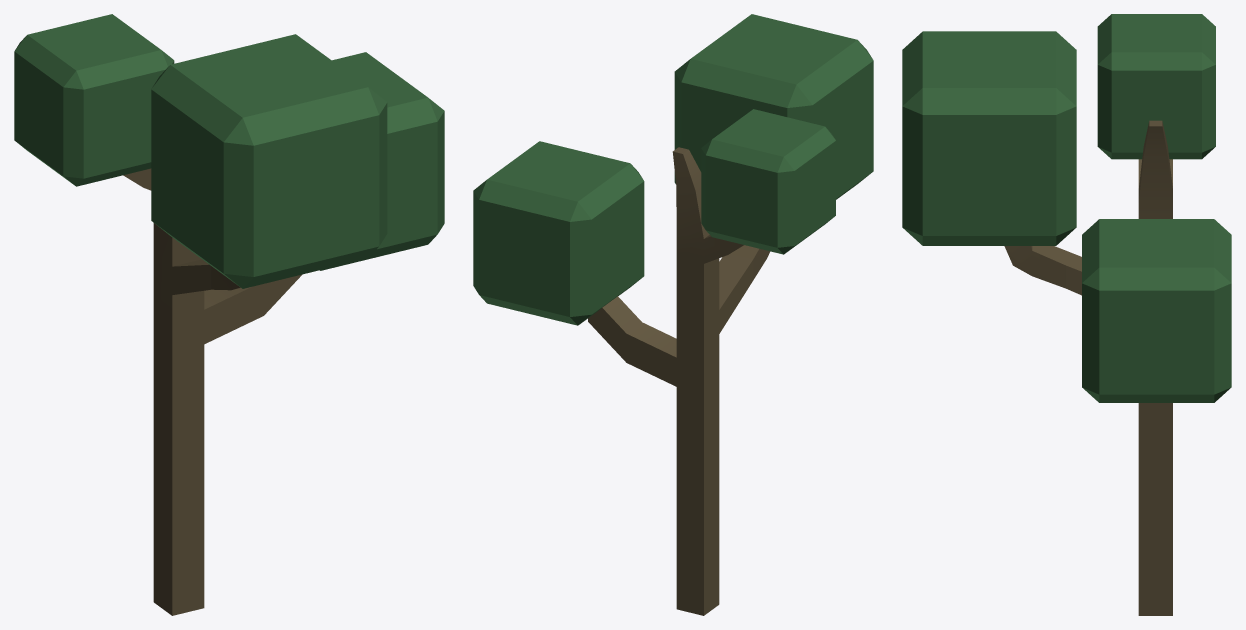
Rendered from Tree Squares.fbx.
3 views of the same model, side by side, from view 1: azimuth 30°, elevation 25°; view 2: azimuth 150°, elevation 25°; view 3: azimuth 270°, elevation 25° (orthographic). The views are drawn at different scales.
Visible parts, largest first — view 1: pCube15; view 2: pCube15; view 3: pCube15.
Part boxes in pixels (<box>): pCube15: <box>14,14,444,615</box>; pCube15: <box>473,14,873,615</box>; pCube15: <box>902,14,1231,615</box>.
Bounding box in the file's own units: 54.55 × 82.84 × 45.03.
